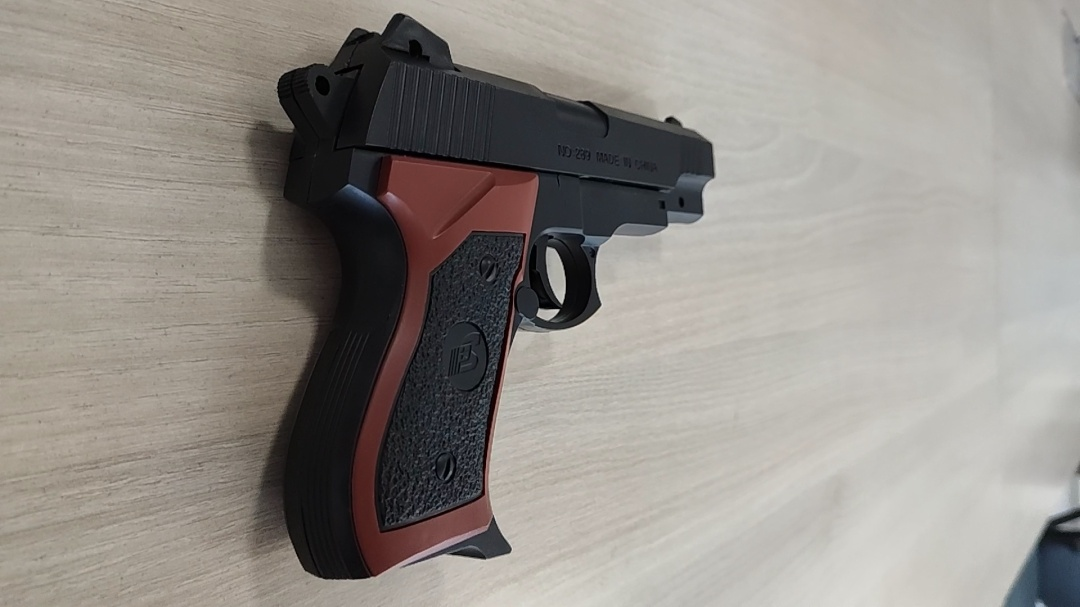gun: (500, 192, 646, 362)
